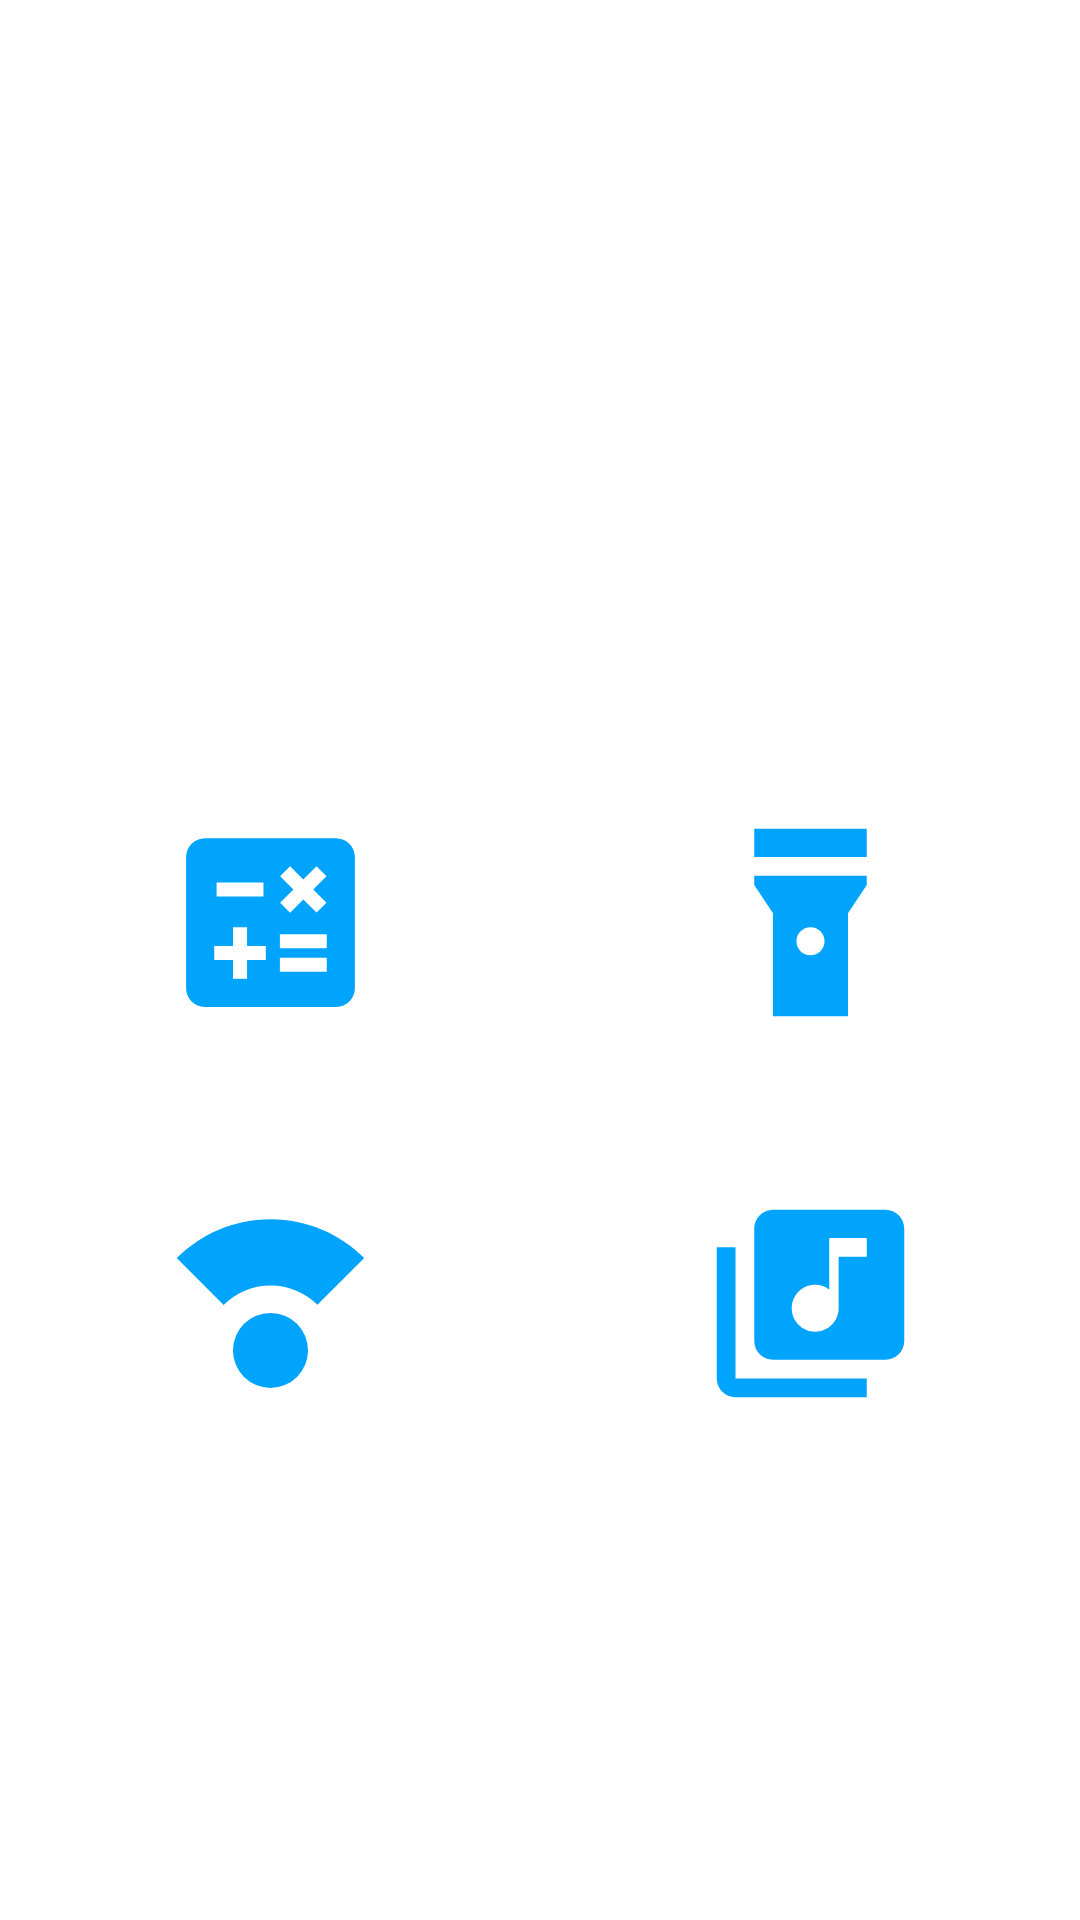

Screen size 1080x1920. Icon name, then its center in pixels as [x,y]:
calculate: [270,922]
compass calibration: [270,1303]
flashlight on: [810,922]
library music: [810,1303]
